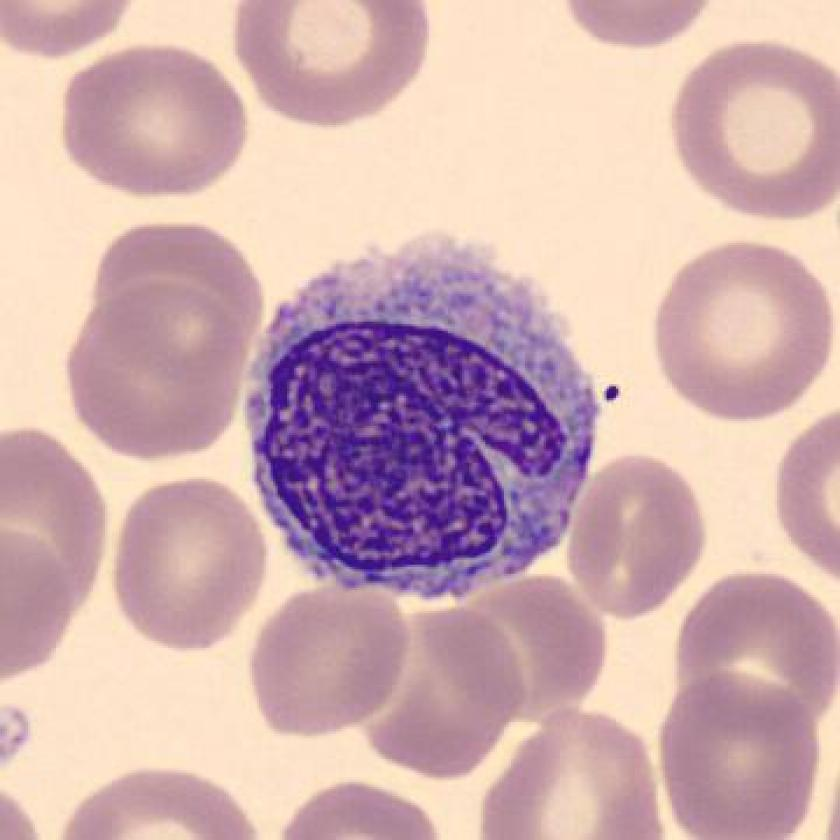monocyte: (227, 207, 631, 616)
